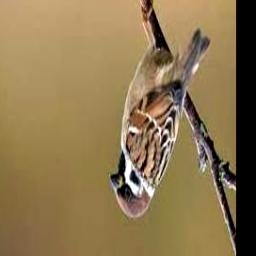Sparrow: (110, 0, 211, 218)
